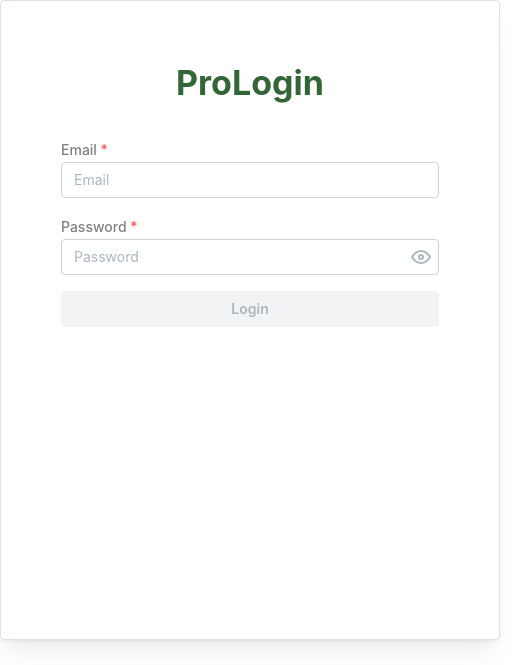
Test: Login › should enable Login button only when form is valid
This screenshot has width=517, height=665.
Check: the button "Login" is disabled, box [61,291,439,327]
# Fill form
In the field labelled "Email *": (250, 180) [61,162,439,198], type "test@test.com"
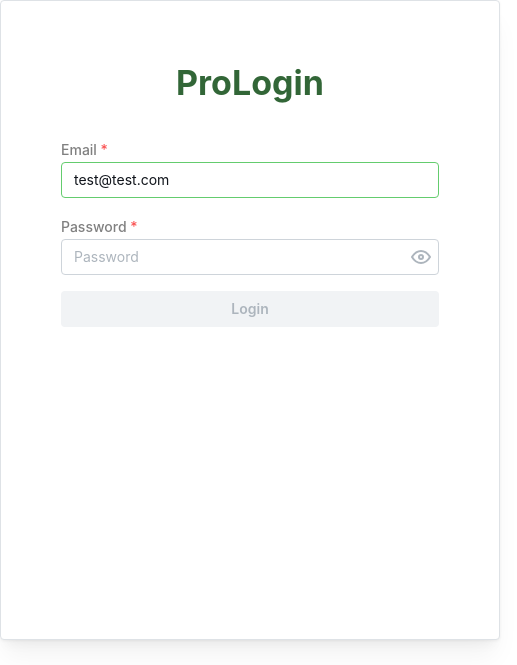
In the password field labelled "Password *": (250, 257) [61,239,439,275], type "test123"
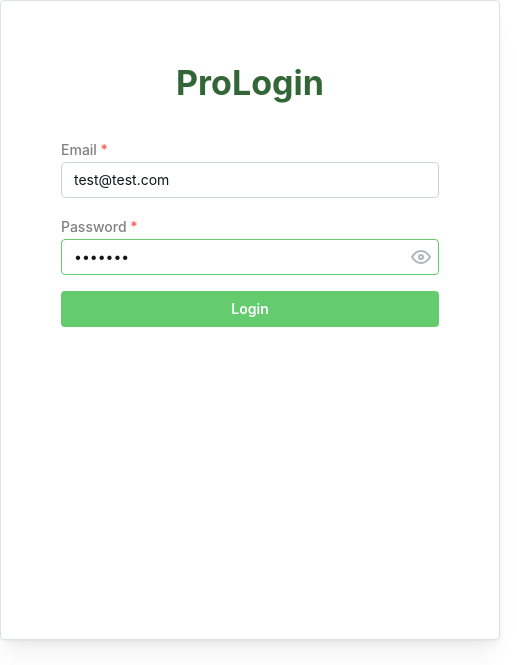
Check: the button "Login" is enabled, box [61,291,439,327]
